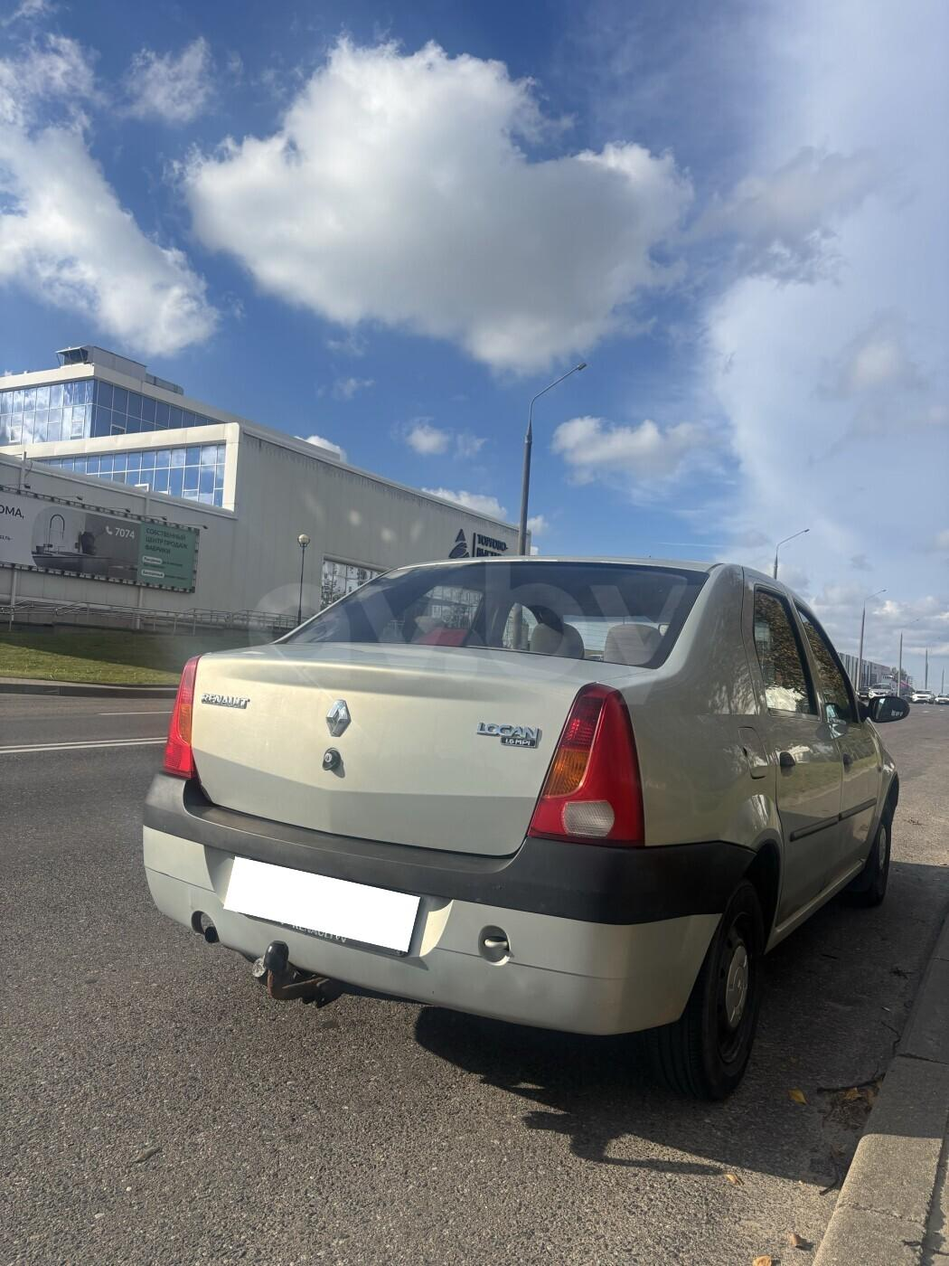Logan_2004-2009: (141, 553, 907, 1080)
